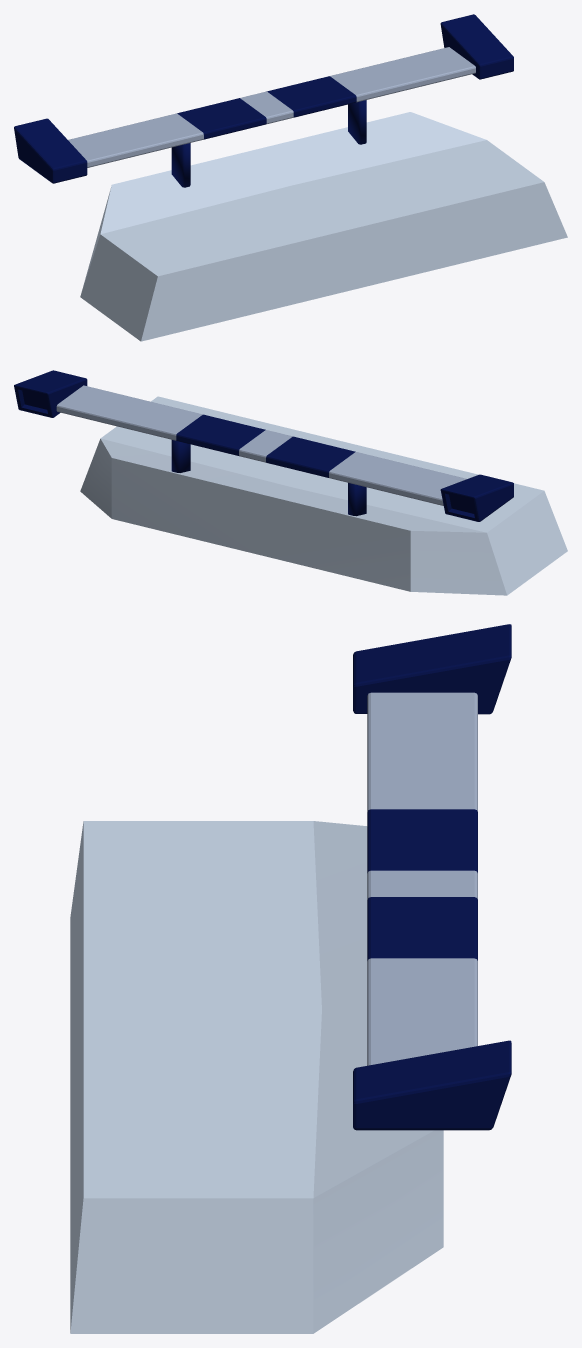
File: Spoiler3.fbx
The picture shows the model from 3 angles, top to bottom: view 1: azimuth 30°, elevation 25°; view 2: azimuth 150°, elevation 25°; view 3: azimuth 270°, elevation 25°; orthographic projection. The views are drawn at different scales.
Visible parts, largest first — view 1: Spoiler.002; view 2: Spoiler.002; view 3: Spoiler.002.
Part boxes in pixels (bbox=[...]): Spoiler.002: bbox=[14, 14, 567, 341]; Spoiler.002: bbox=[14, 370, 567, 595]; Spoiler.002: bbox=[70, 624, 511, 1333].
Size of the model in its own units: 2.63 by 0.7541 by 1.09.
